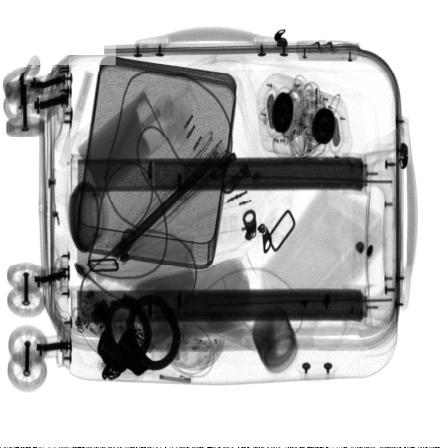HandCuffs: (96, 291, 181, 381)
